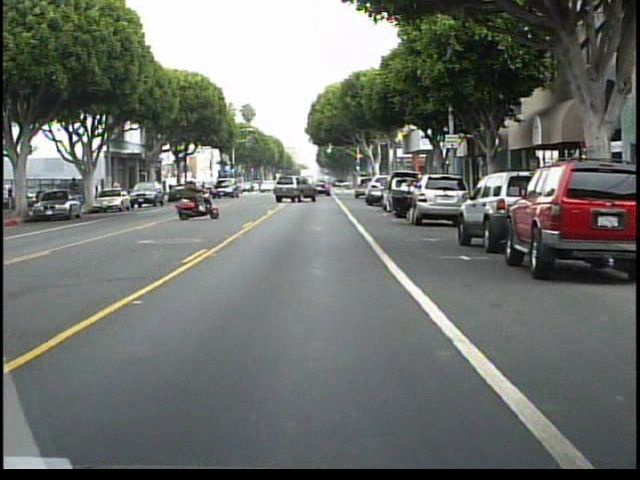person: (398, 171, 421, 230), (171, 176, 199, 216), (67, 174, 84, 211)
